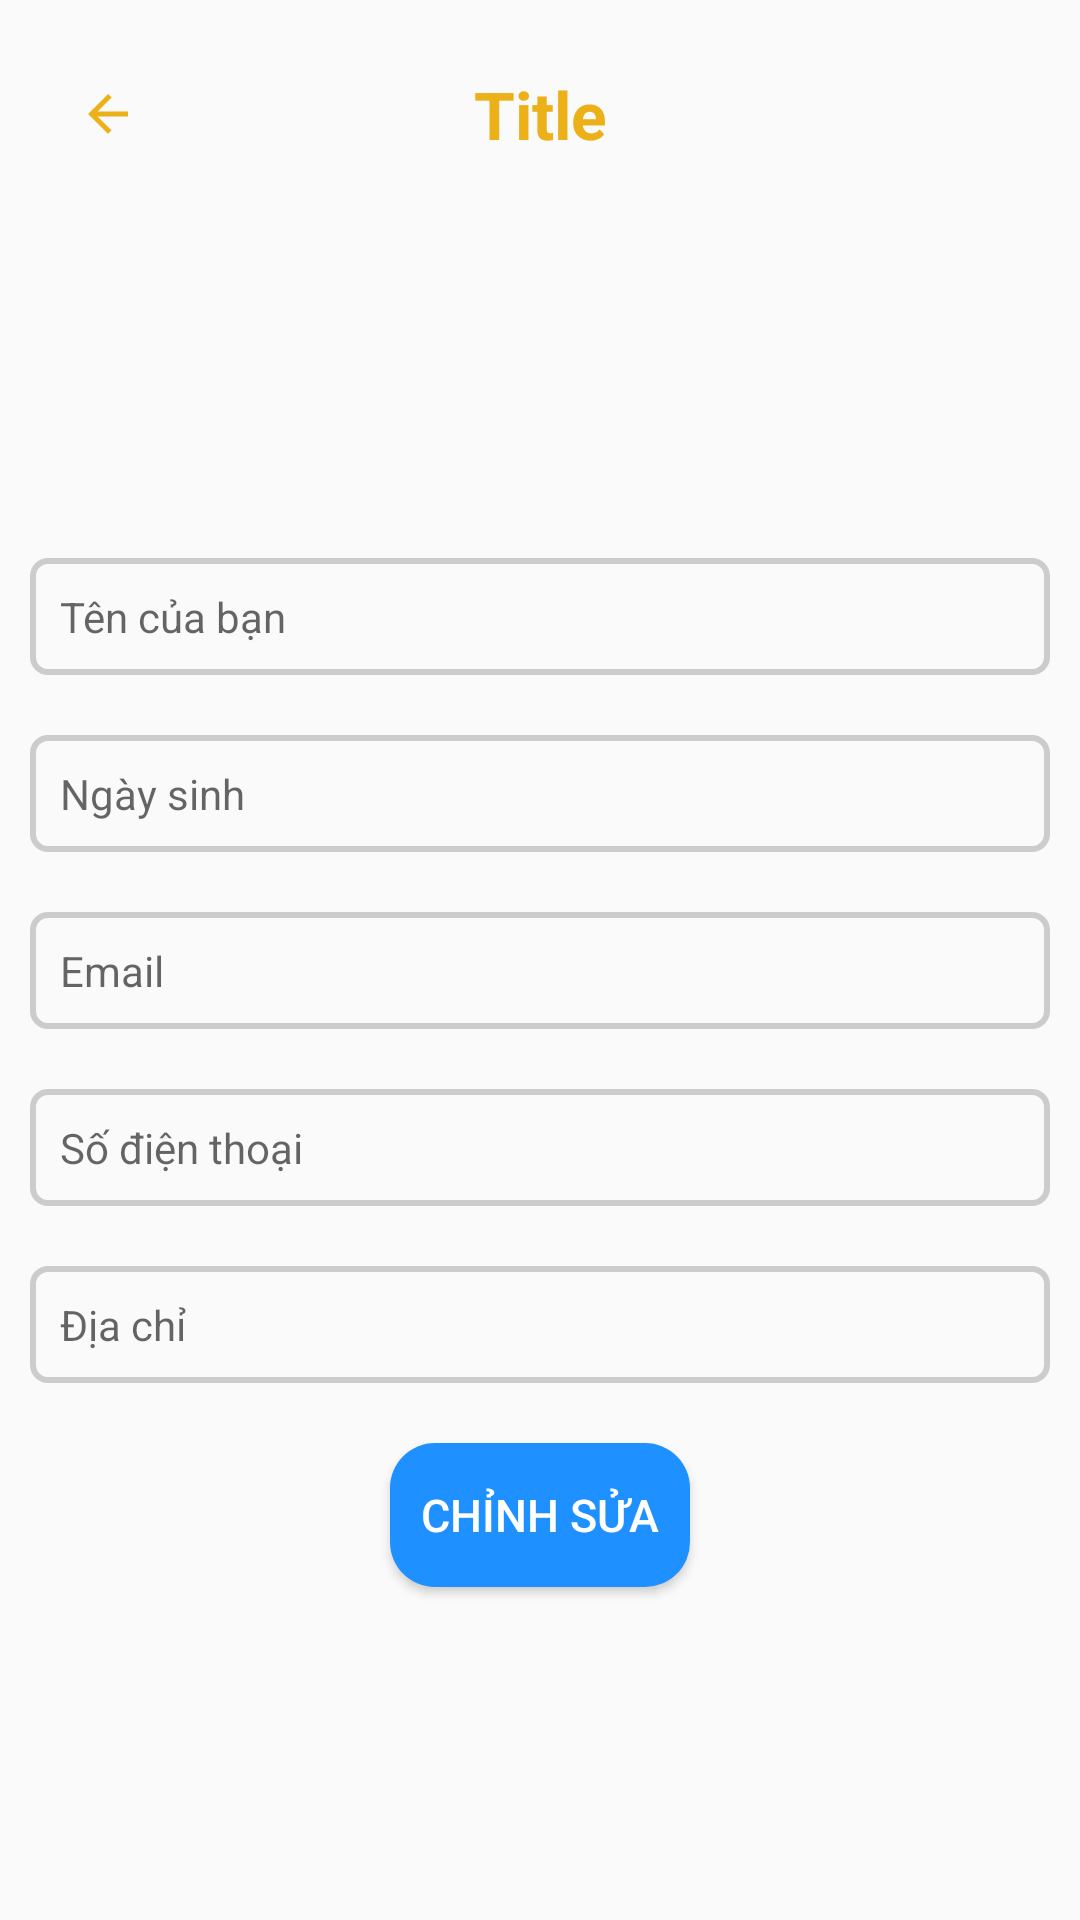

Where to tap for icons on this 1080x1920 app screen, as (x,y):
back: (108,114)
